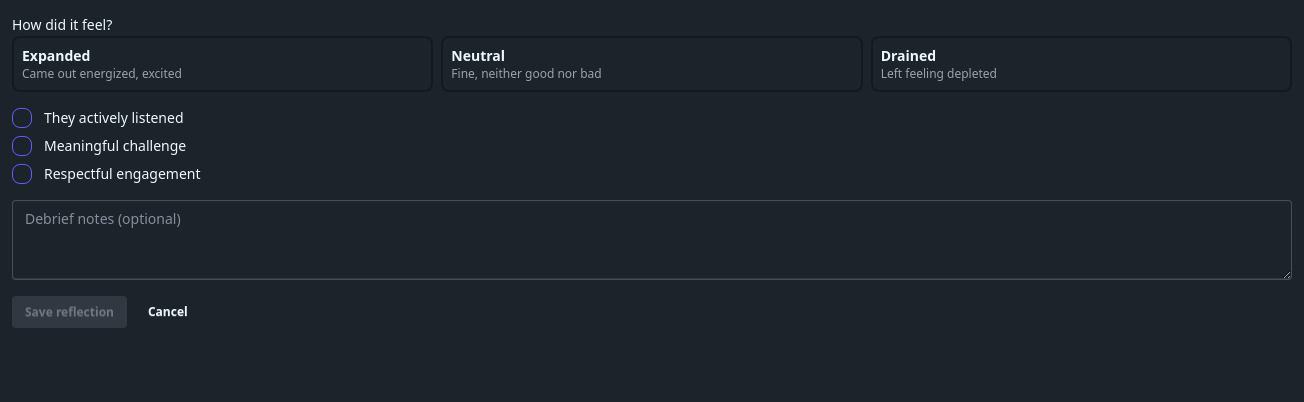
Test: ReflectionForm › shows generic error message for non-Error throws
Click the text "Drained": (908, 56) [881, 46, 936, 65]
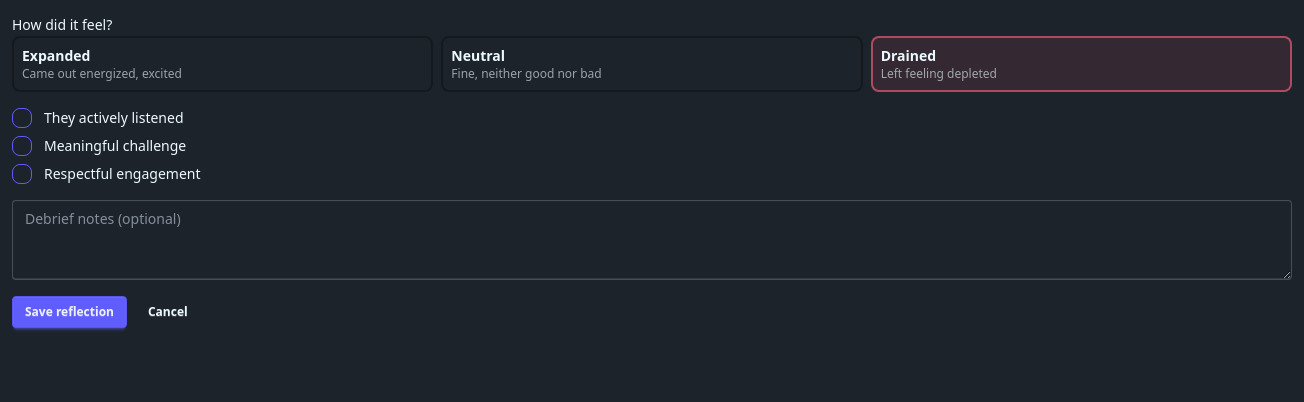
Click the button "Save reflection": (70, 312) [12, 296, 127, 328]
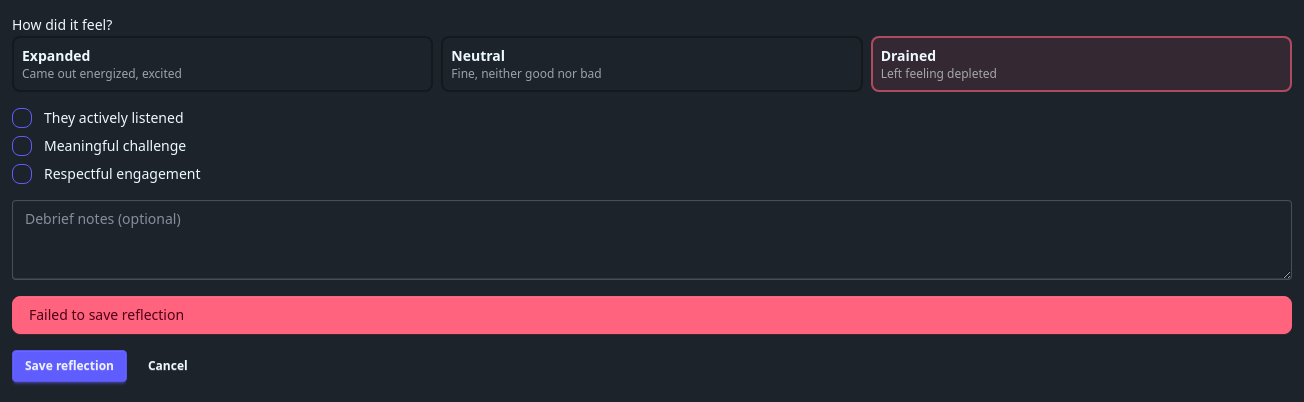
Now the text "Failed to save reflection" is shown, box [29, 305, 184, 325]
